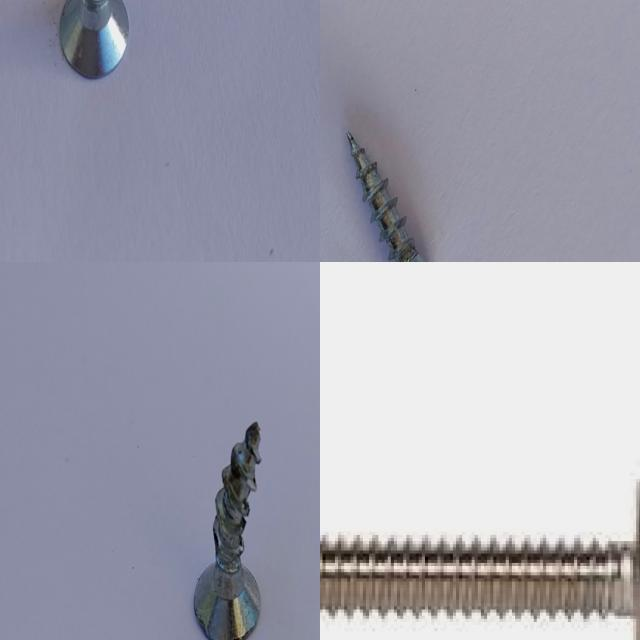Screw: (320, 484, 640, 640), (194, 421, 261, 640), (347, 132, 427, 262), (59, 0, 129, 77)
